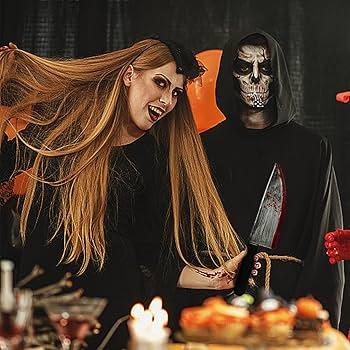Knife: (0, 37, 240, 296), (195, 33, 345, 298), (237, 165, 289, 258), (220, 251, 260, 291)
